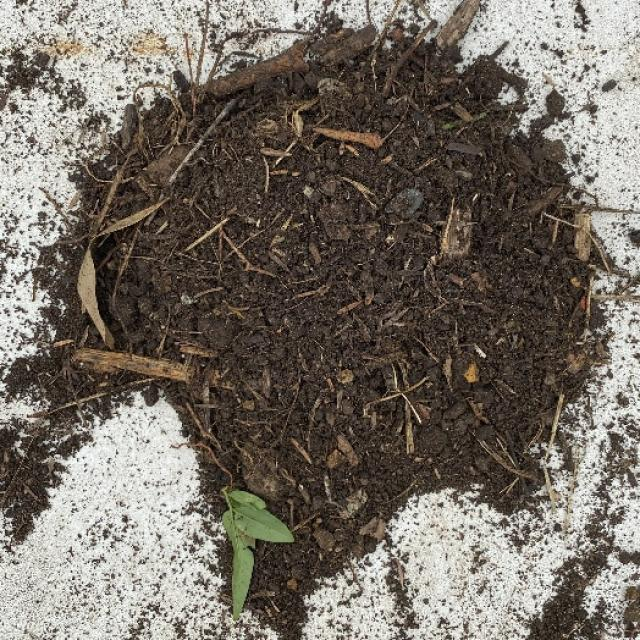organik: (86, 54, 602, 557)
